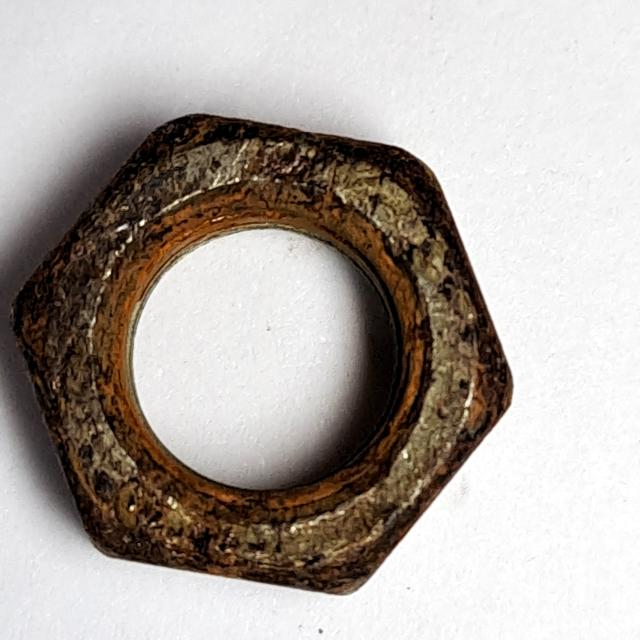Rust: (1, 89, 531, 616)
